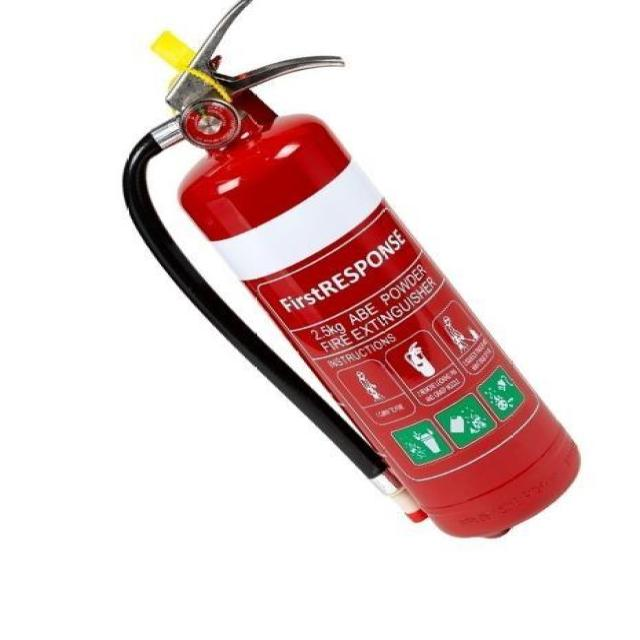fire_extinguisher: (110, 0, 585, 546)
